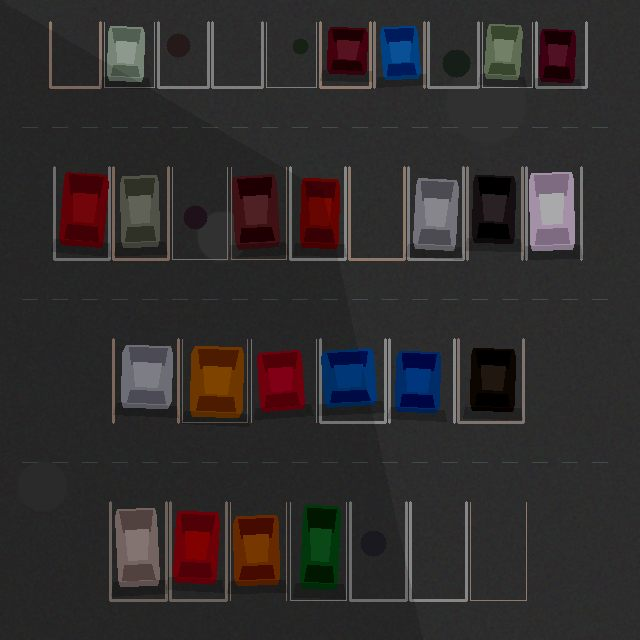space-empty: (350, 502, 406, 600), (410, 502, 466, 600), (470, 502, 526, 600), (172, 167, 227, 259), (349, 167, 404, 259), (50, 22, 100, 87), (158, 22, 208, 87), (212, 22, 262, 87), (266, 22, 316, 87), (428, 22, 478, 87)
space-occupied: (110, 502, 166, 600), (170, 502, 226, 600), (230, 502, 286, 600), (290, 502, 346, 600), (113, 339, 178, 422), (182, 339, 247, 422), (251, 339, 316, 422), (320, 339, 385, 422), (389, 339, 454, 422), (458, 339, 523, 422), (54, 167, 109, 259), (113, 167, 168, 259), (231, 167, 286, 259), (290, 167, 345, 259), (408, 167, 463, 259), (467, 167, 522, 259), (526, 167, 581, 259), (104, 22, 154, 87), (320, 22, 370, 87), (374, 22, 424, 87), (482, 22, 532, 87), (536, 22, 586, 87)
